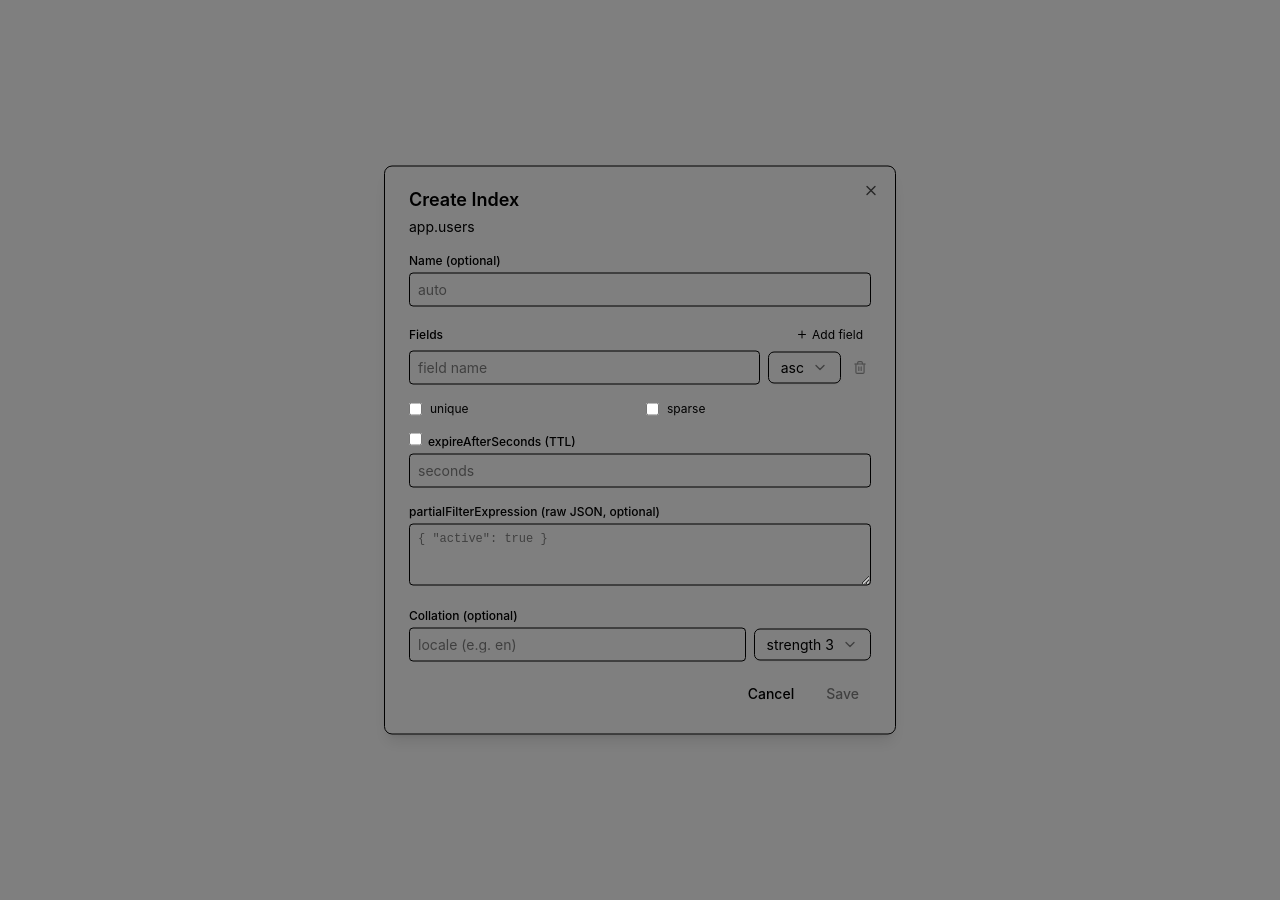
Test: CreateMongoIndexDialog › enables Save once at least one field row has a name
The width and height of the screenshot is (1280, 900).
Step 1. Type "email" into the field with test id "mongo-create-index-field-name-0" → (584, 368), box top-left (409, 350), bottom-right (760, 384)
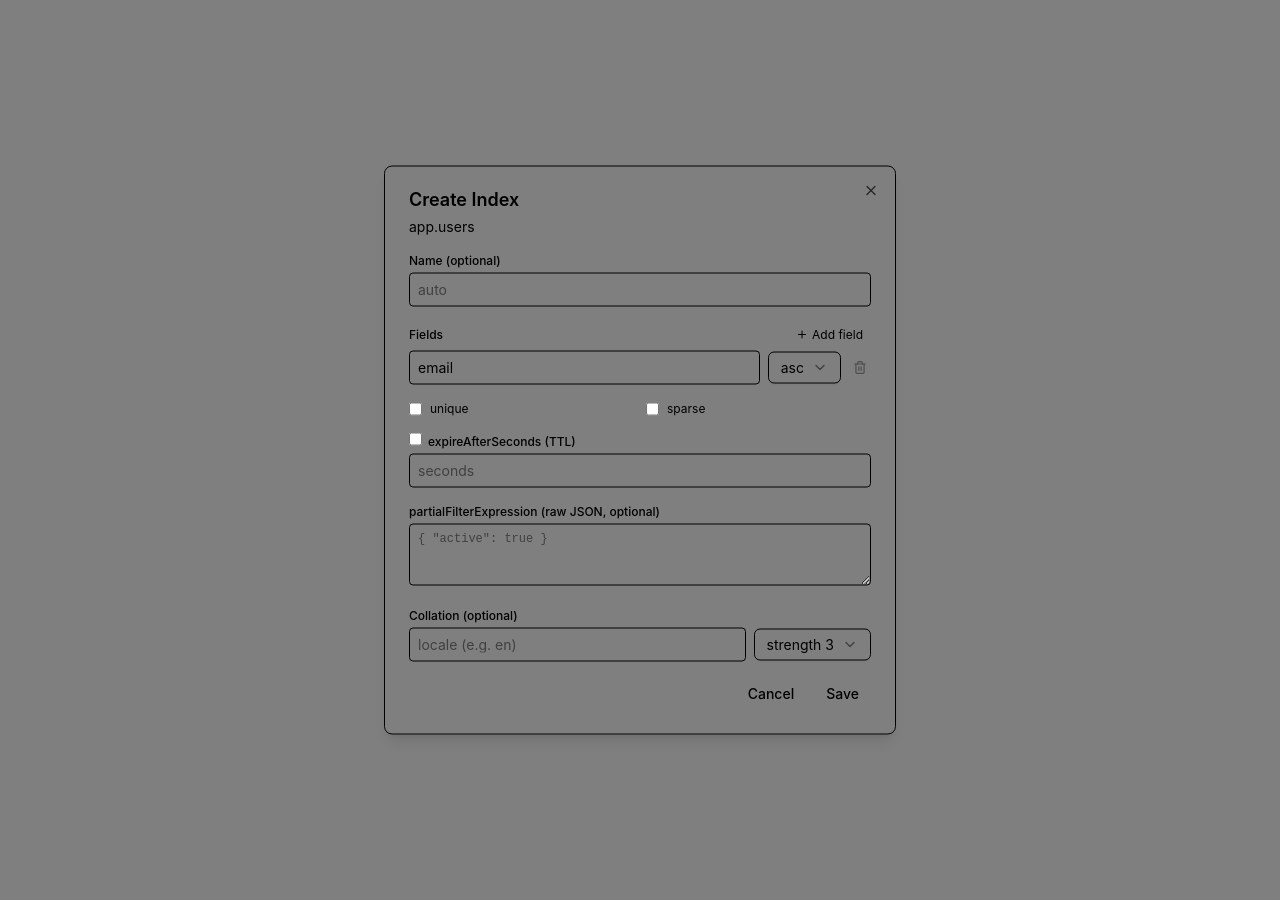
Now the button with test id "mongo-create-index-save" is enabled, box top-left (814, 678), bottom-right (871, 710)
